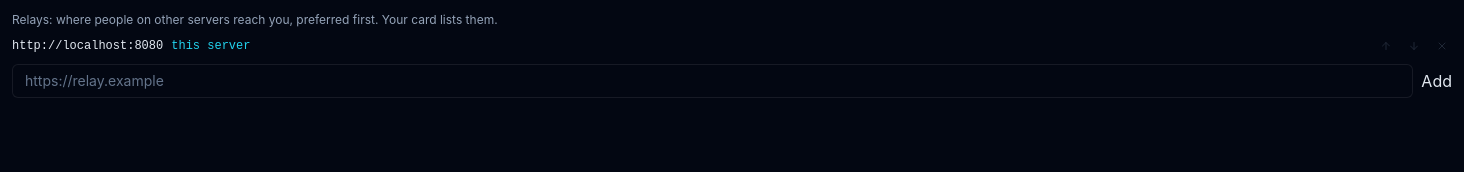
CardRelays › refuses an address that is not a relay URL
Type "relay.example" into the field named "Relay address".
click(713, 81); type("relay.example")  # box [12,64,1413,98]
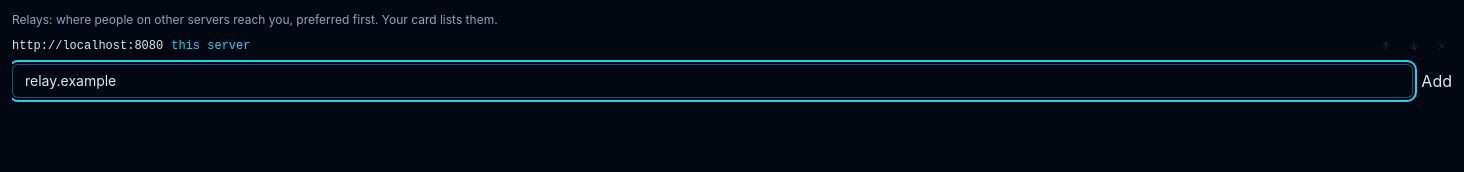
Click the button "Add".
click(1437, 81)  # box [1421,64,1452,98]
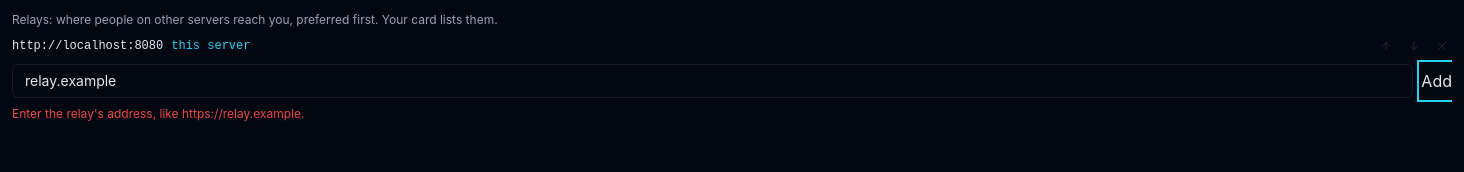
Check: the message shows "relay's address", box [12,106,304,121]
